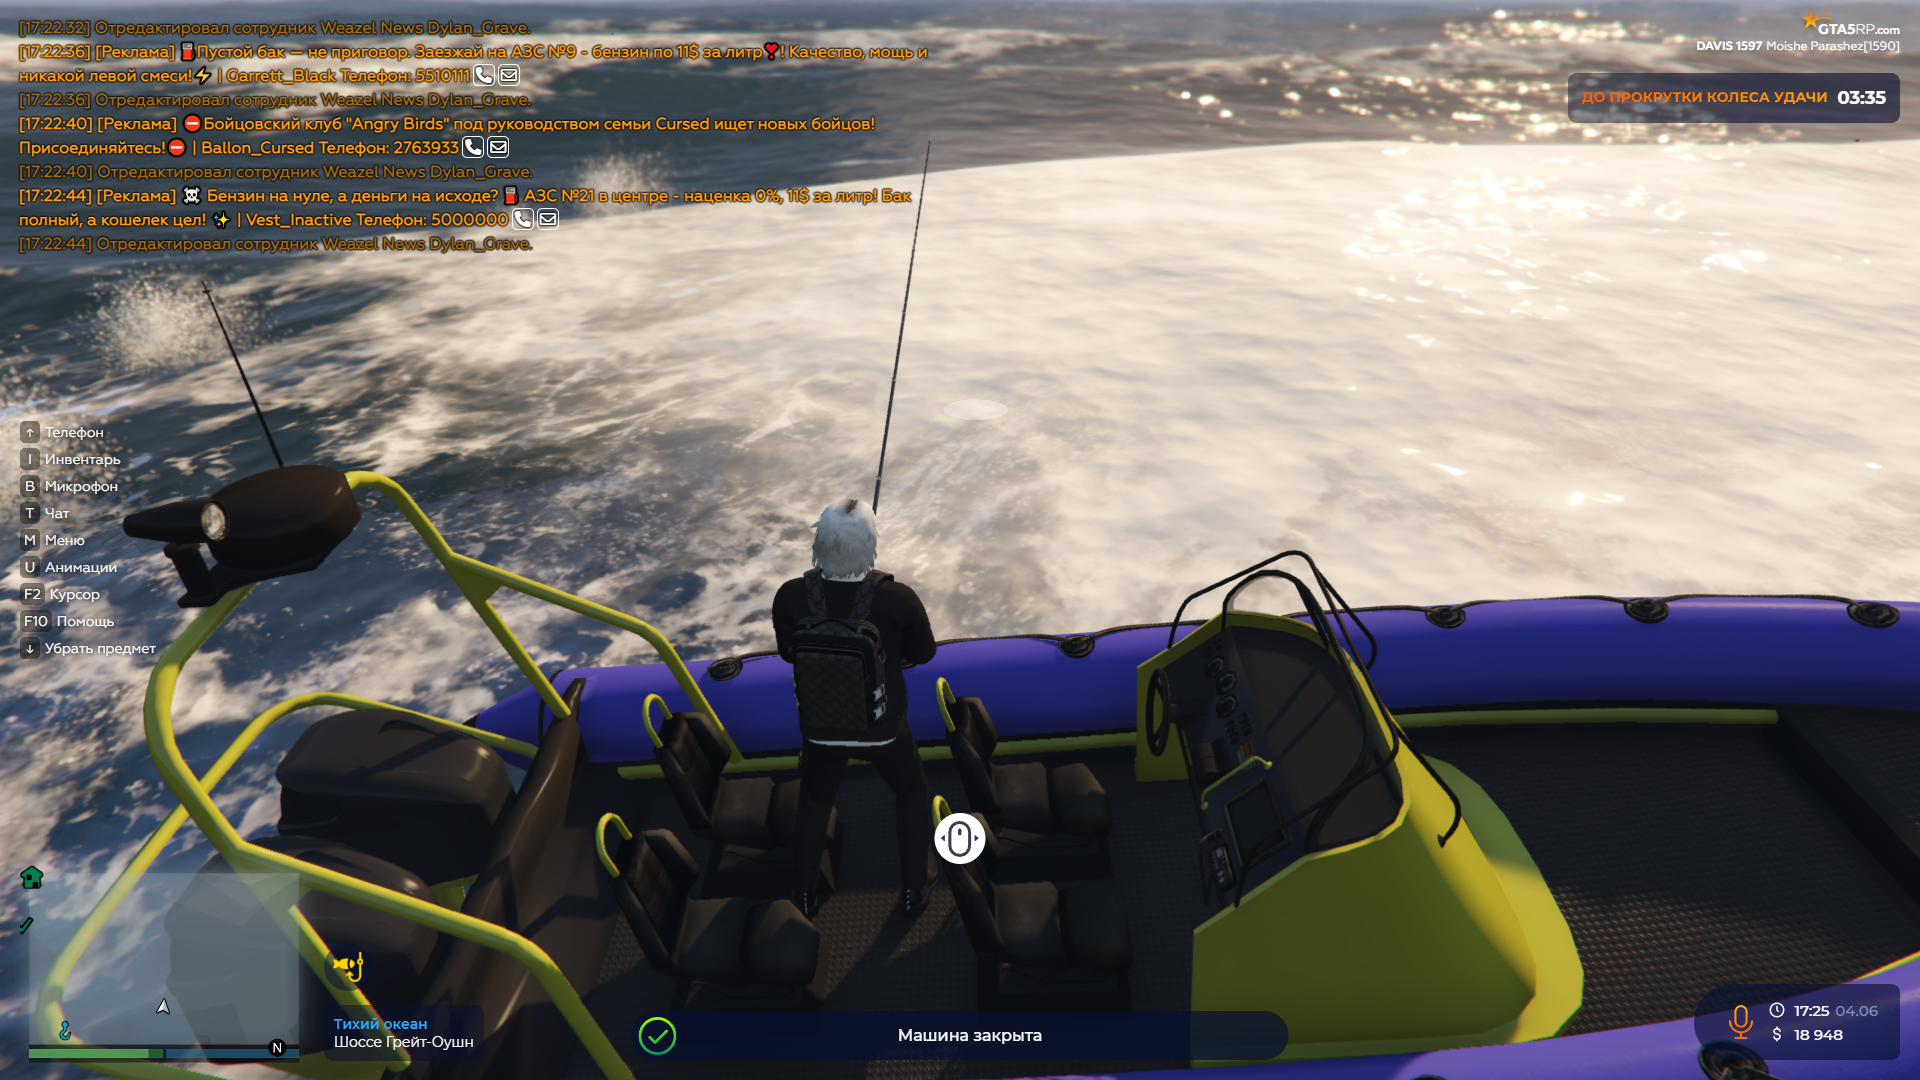circle: (942, 397, 1007, 425)
